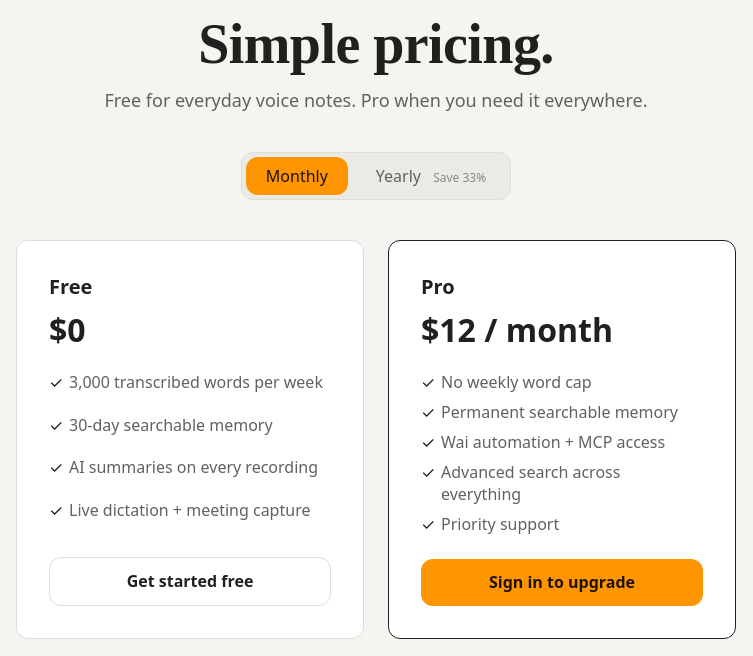
Test: PricingCards › renders English pricing and toggles annual price
This screenshot has width=753, height=656.
Expected: the heading "Simple pricing." is shown, x1=198 y1=13 x2=554 y2=75
Expected: the list item "3,000 transcribed words per week" is shown, x1=49 y1=371 x2=331 y2=406
Click the button "Yearly Save 33%": (431, 176) x1=356 y1=157 x2=506 y2=195
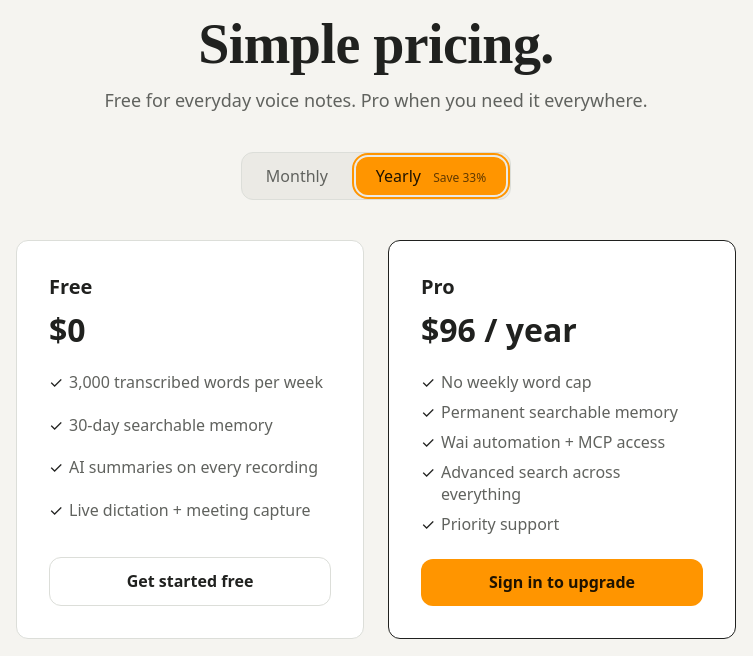
Expected: the text "$96 / year" is shown, x1=421 y1=308 x2=577 y2=351
